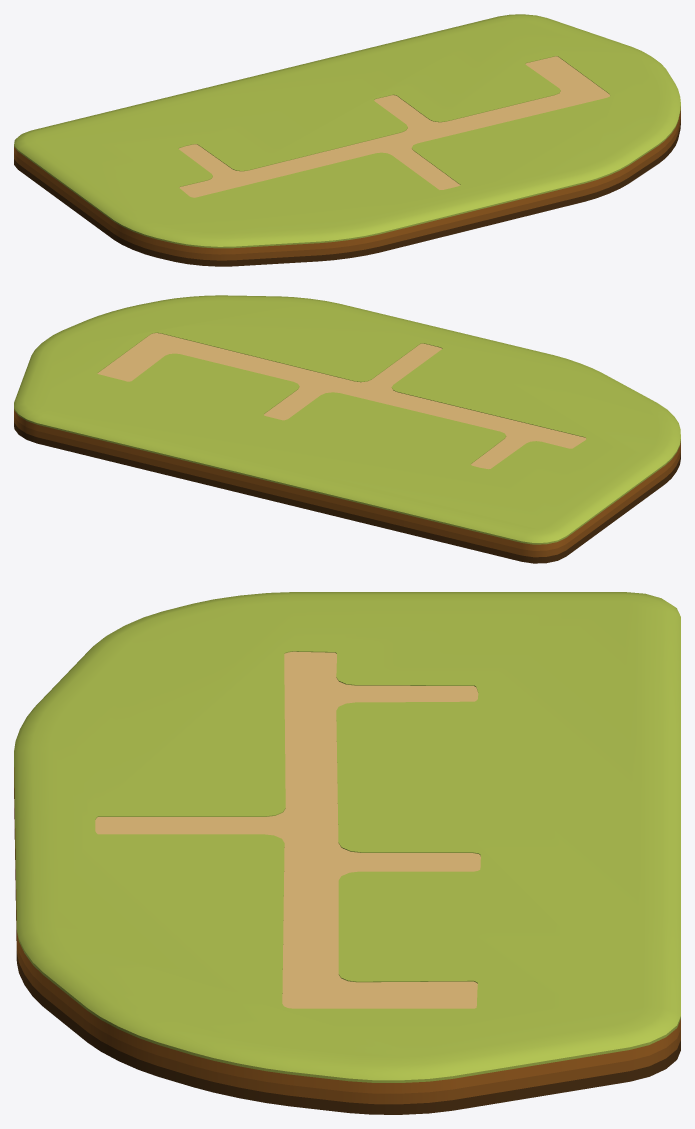
Rendered from New_Island.fbx.
3 renders of one model, top to bottom at view 1: azimuth 30°, elevation 25°; view 2: azimuth 150°, elevation 25°; view 3: azimuth 270°, elevation 25°, orthographic. The views are drawn at different scales.
Parts seen in each view (by area): view 1: Island.001; view 2: Island.001; view 3: Island.001.
Boxes of the visible parts, x1,y1,x2,y2 form: Island.001: (14, 14, 680, 266); Island.001: (14, 295, 680, 563); Island.001: (14, 592, 680, 1114).
Size of the model in its own units: 5.12 by 0.2088 by 2.97.
